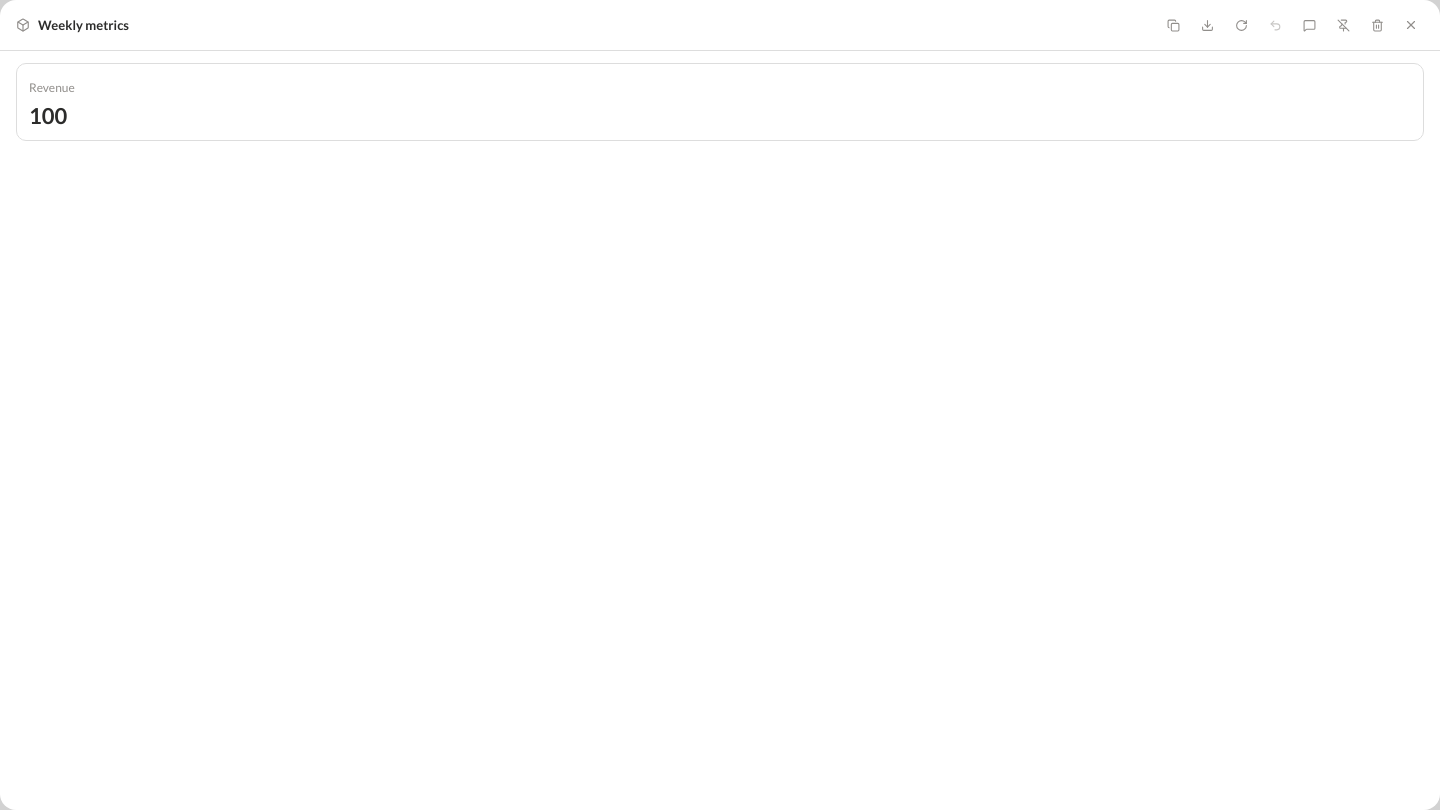
Test: ArtifactPreview › shows an error toast and clears the regenerating state when a regenerate run fails
Click the button named "Refresh artifact": (1241, 25) [1228,12,1254,38]
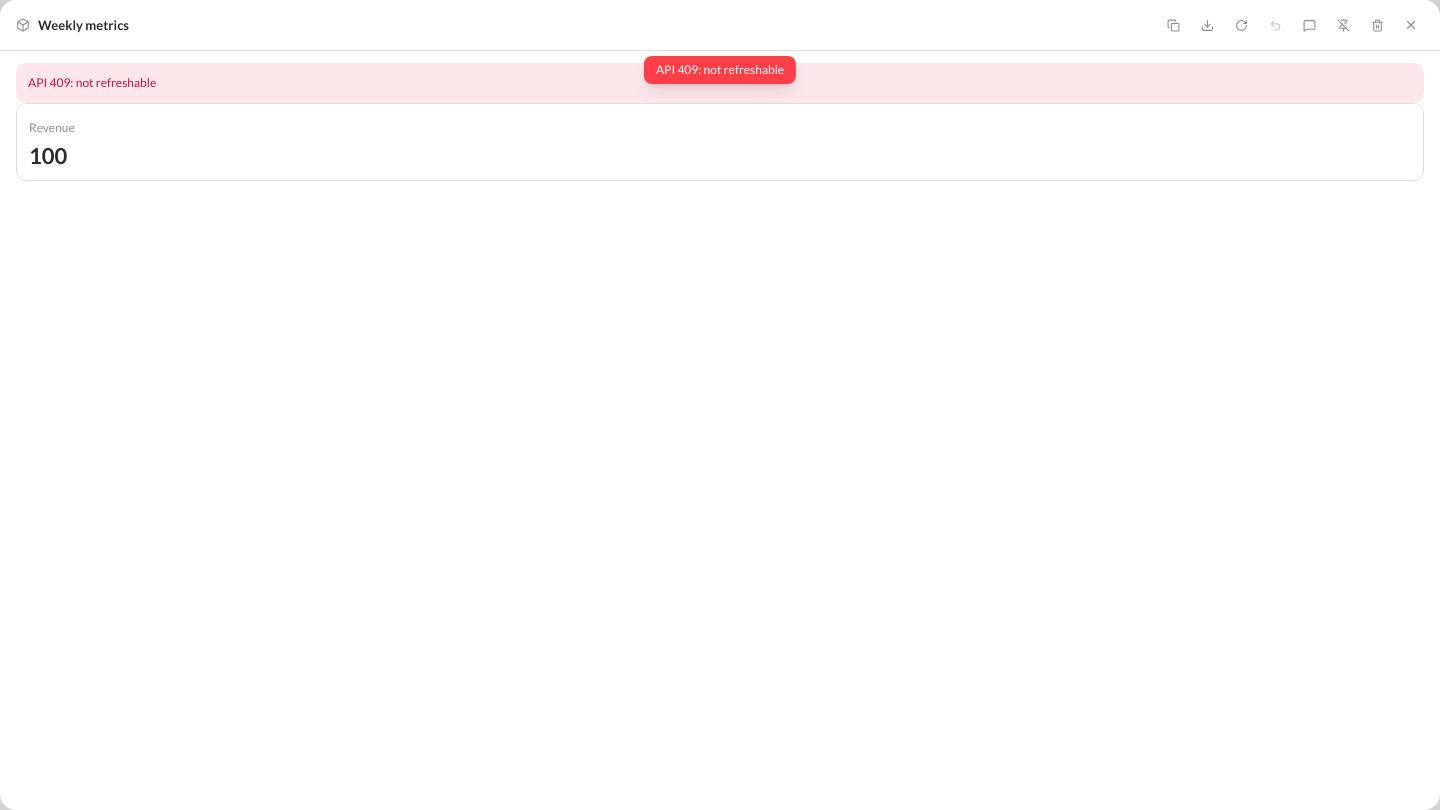
expect the element with test id "artifact-body-metric" is shown: met, box [16,103,1424,181]
expect the text with test id "artifact-regen-error-toast" reads "API 409: not refreshable": met, box [656,62,784,77]
